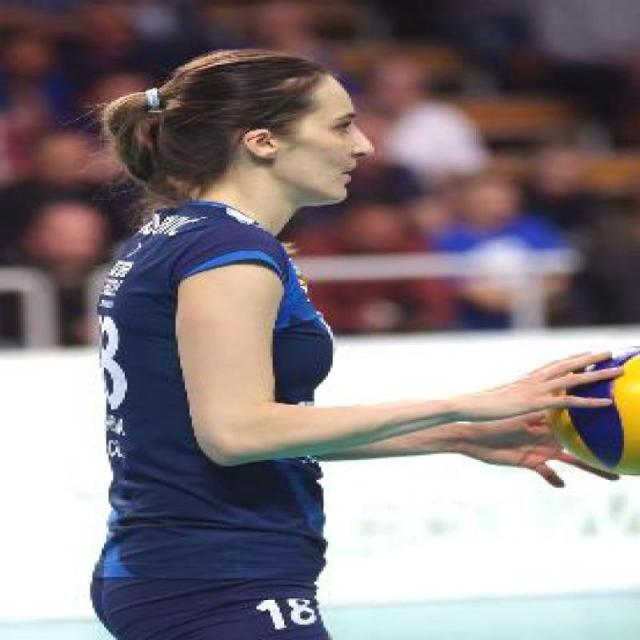volleyball: (546, 343, 638, 477)
